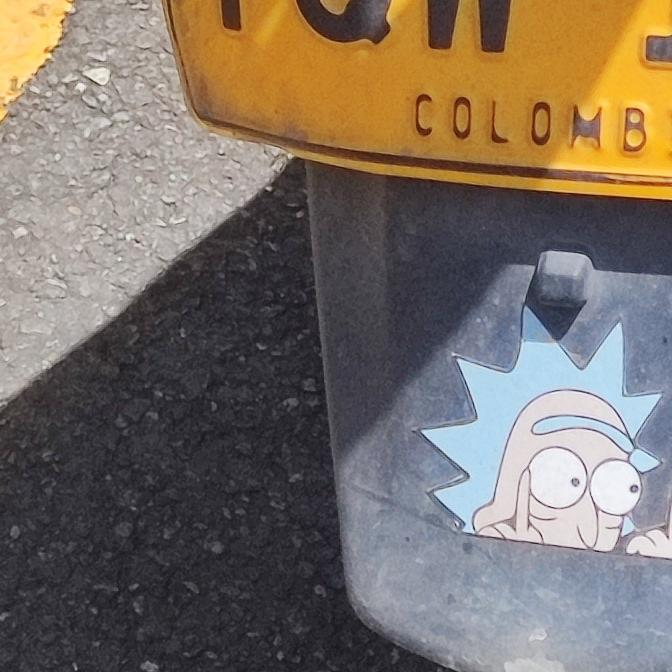plates: (170, 0, 672, 185)
